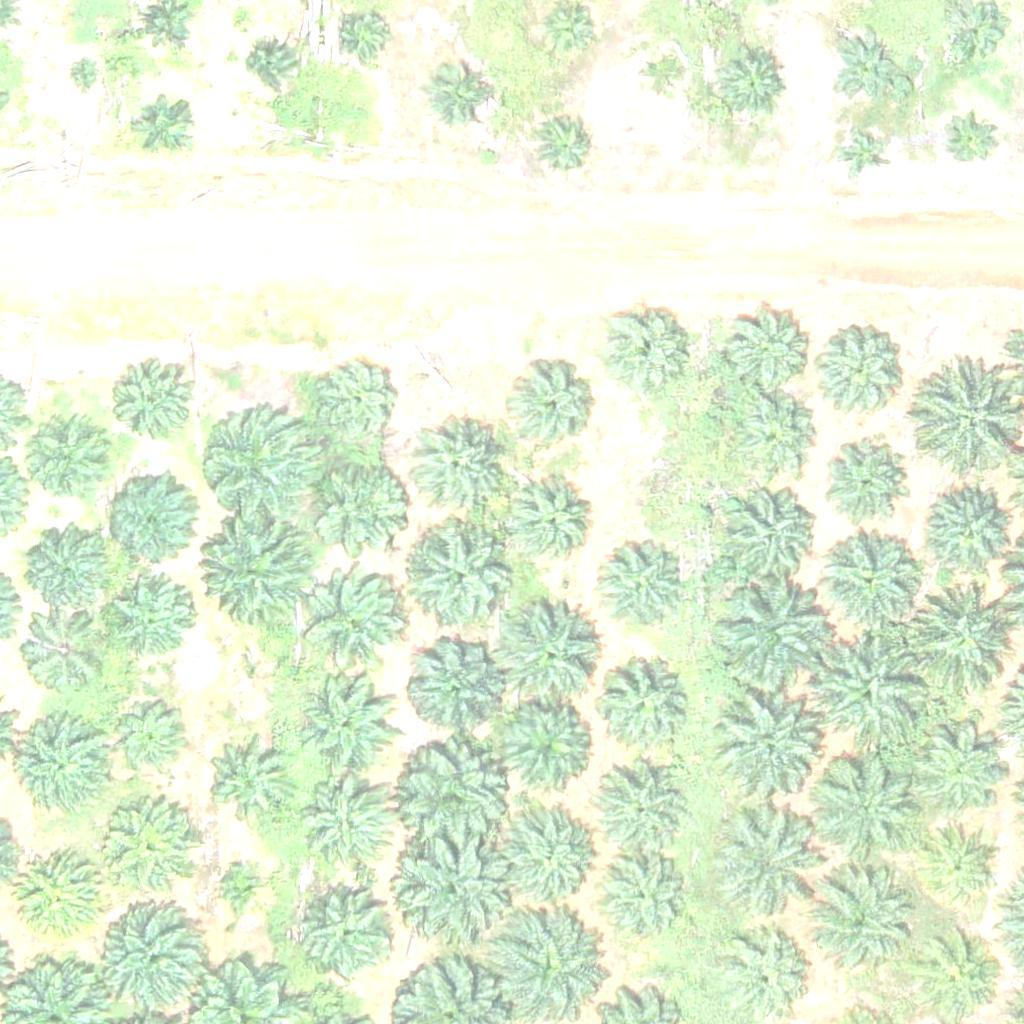Kelapa_Sawit: (92, 897, 217, 1023), (201, 403, 326, 529), (903, 583, 1016, 697), (896, 714, 1009, 827), (495, 908, 608, 1021), (393, 835, 506, 948), (808, 748, 920, 862), (805, 864, 917, 978), (714, 580, 826, 694), (813, 639, 925, 752), (489, 596, 601, 709), (406, 524, 518, 637), (399, 743, 511, 856), (809, 320, 909, 421), (709, 812, 809, 913), (585, 540, 685, 641), (590, 761, 690, 862), (591, 850, 691, 951), (500, 802, 600, 903), (492, 694, 592, 795), (408, 416, 508, 517), (300, 883, 400, 984), (300, 779, 400, 880), (295, 673, 395, 774), (310, 570, 410, 671), (213, 521, 313, 622), (920, 374, 1020, 474), (822, 530, 922, 630), (713, 699, 813, 799), (718, 483, 818, 583), (594, 655, 694, 755), (404, 636, 504, 736), (17, 721, 117, 821), (314, 448, 414, 548), (915, 822, 1003, 910), (907, 934, 995, 1022), (816, 436, 904, 524), (718, 930, 806, 1018), (598, 305, 686, 393), (501, 476, 589, 564), (18, 852, 106, 940), (104, 810, 192, 898), (106, 476, 193, 565), (25, 522, 112, 610), (736, 391, 823, 479), (724, 308, 811, 396), (511, 365, 598, 453), (20, 603, 107, 691), (28, 414, 115, 502), (114, 357, 201, 445), (111, 584, 198, 672), (315, 361, 402, 449), (205, 734, 292, 822), (425, 55, 500, 131), (116, 700, 191, 775), (714, 45, 789, 120), (830, 27, 905, 102), (136, 92, 199, 155), (535, 115, 598, 178), (944, 119, 994, 170), (837, 128, 887, 179), (245, 42, 295, 92), (345, 9, 395, 59), (218, 859, 268, 909), (639, 50, 689, 100), (63, 58, 101, 96)
